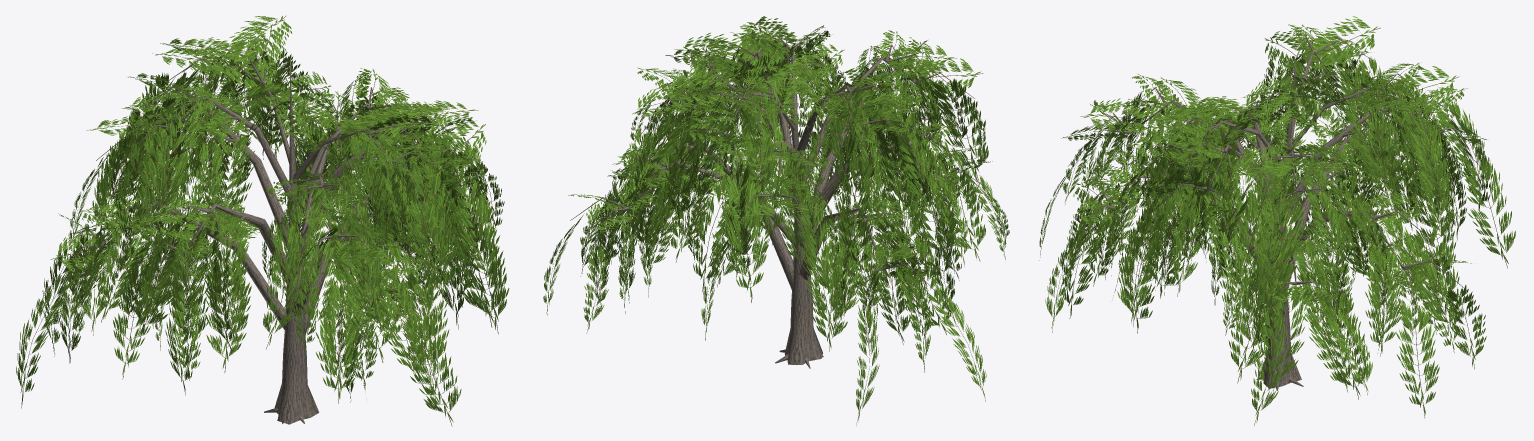
File: WeepingWillow.fbx
3 views of the same model, side by side, from view 1: azimuth 30°, elevation 25°; view 2: azimuth 150°, elevation 25°; view 3: azimuth 270°, elevation 25° (orthographic). The views are drawn at different scales.
Visible parts, largest first — view 1: Foliage, Bark; view 2: Foliage, Bark; view 3: Foliage, Bark.
Boxes of the visible parts, <box> form: Foliage: <box>16,15,509,426</box>; Bark: <box>57,36,480,424</box>; Foliage: <box>543,16,1009,424</box>; Bark: <box>570,34,985,368</box>; Foliage: <box>1039,16,1515,425</box>; Bark: <box>1068,36,1479,390</box>.
Bounding box in the file's own units: 19.82 × 15.06 × 20.32.
